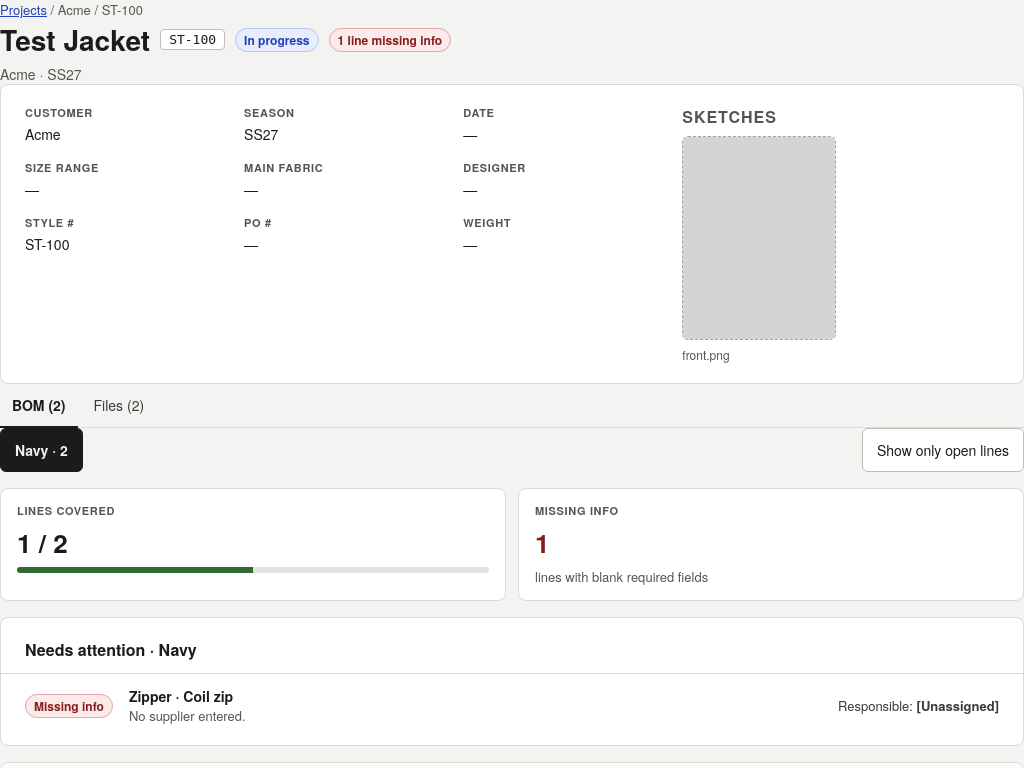
Test: files tab lists uploaded files
What coordinates should you click on to do the following:
click the tab "Files (2)"
I would click on:
 (119, 406)
Its box is [82,384,156,428].
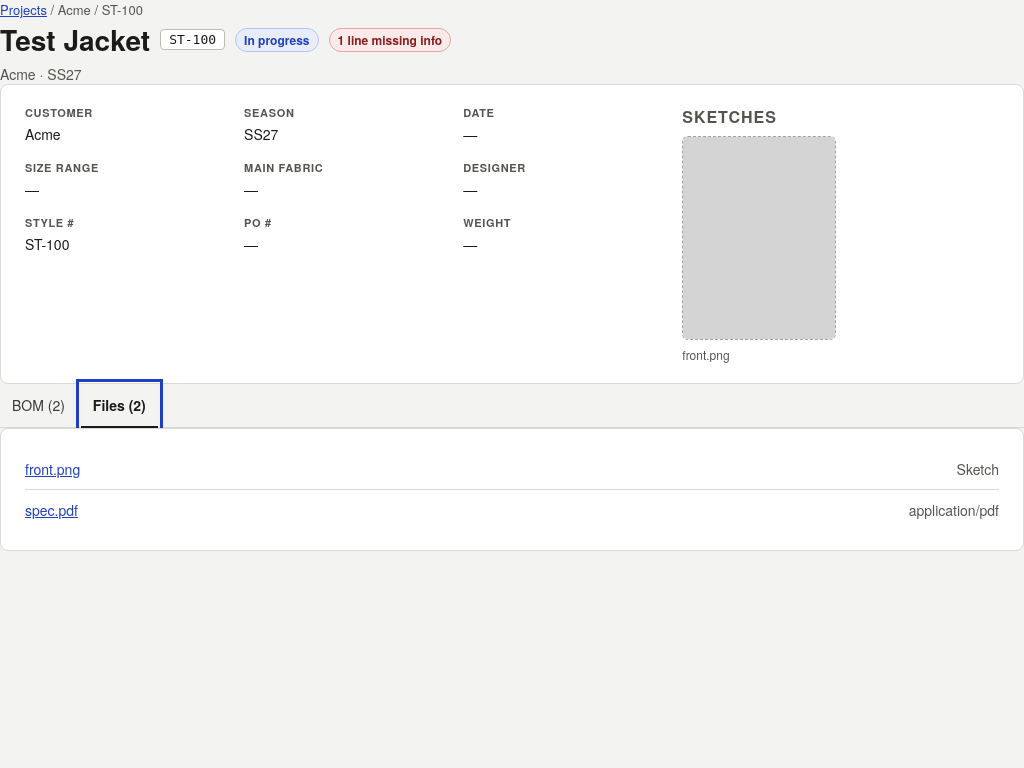
Expected: the link "spec.pdf" is shown, [25,500,78,520]
